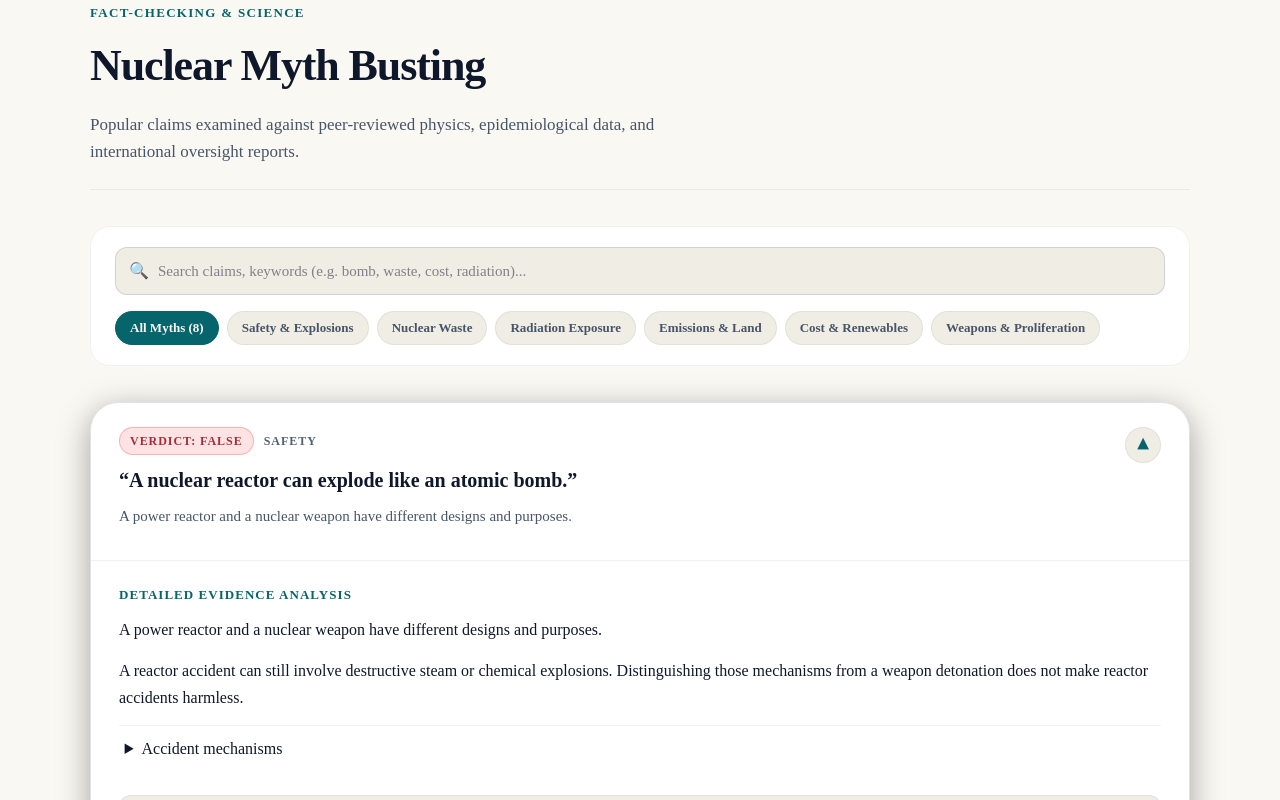
Test: MythViewer › filters myths by category pill
Click the button "Nuclear Waste": (432, 328) [377,311,487,345]
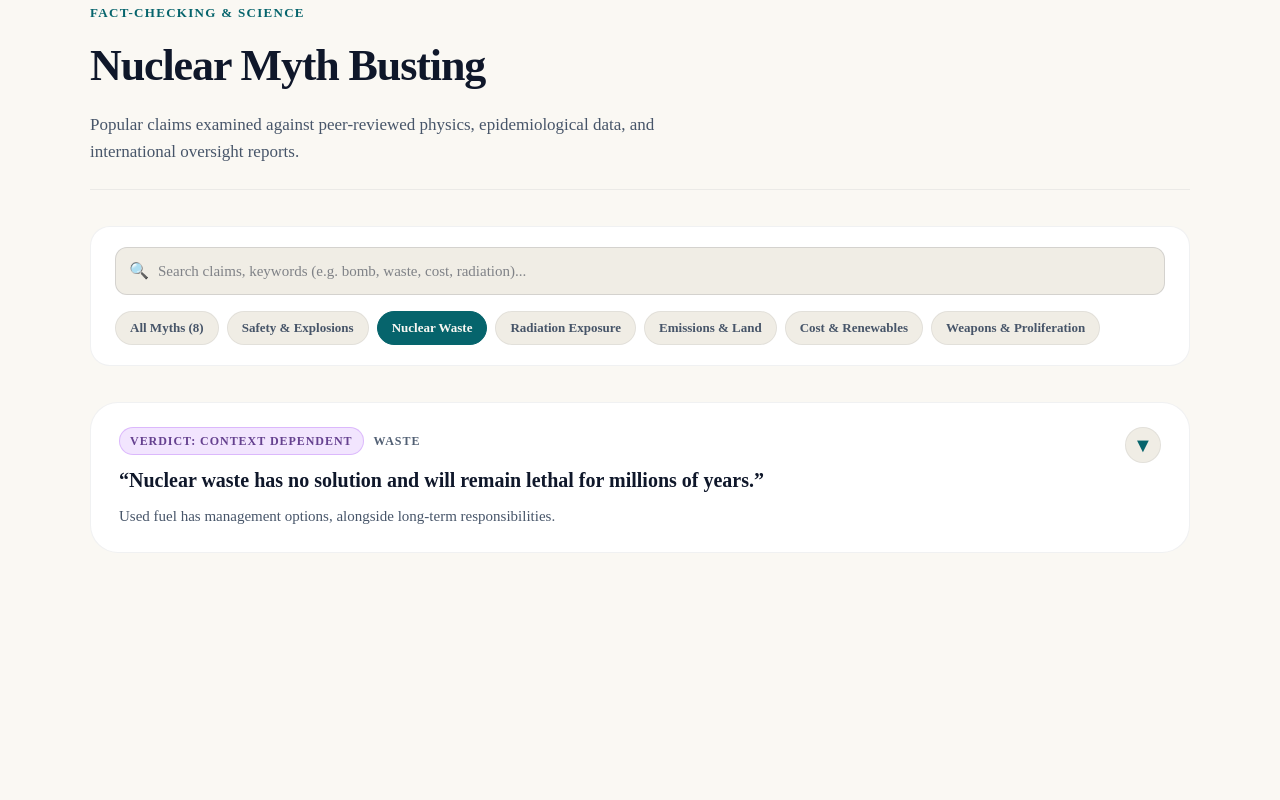
Expected: the heading "“Nuclear waste has no solution and will remain lethal for millions of years.”" is shown, [119,469,764,491]
Expected: the button "“A nuclear reactor can explode like an atomic bomb.”" is gone
